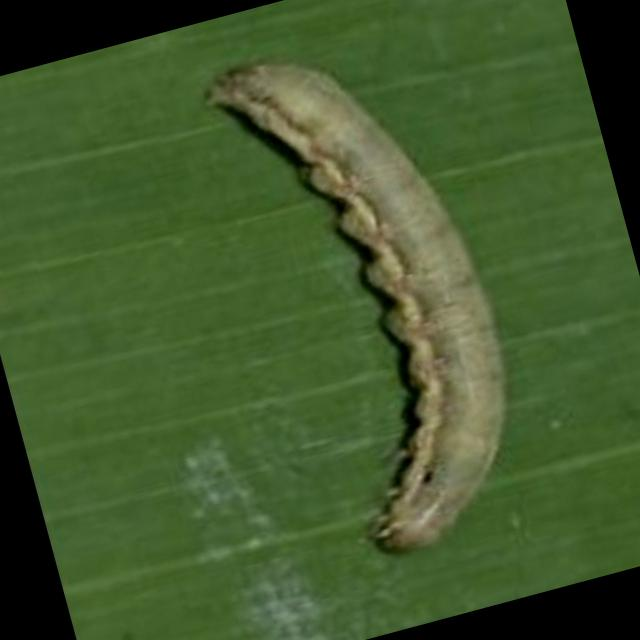Tobacco cutworm: (110, 0, 594, 598)
